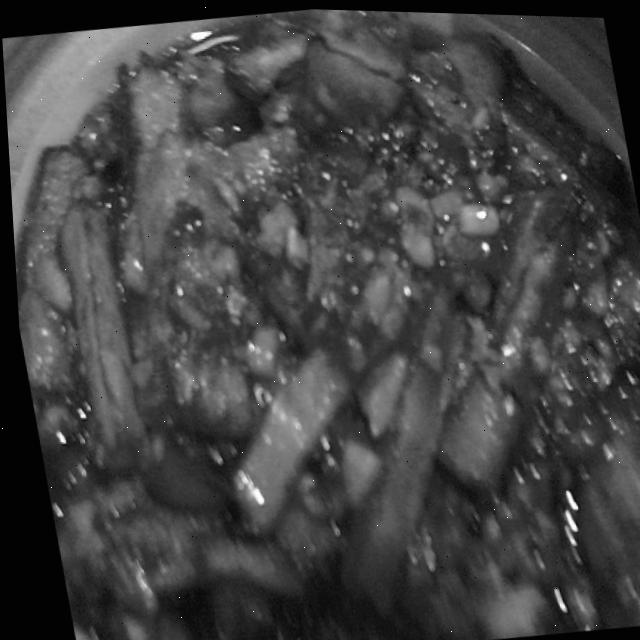鸡蛋料理: (14, 6, 640, 640)
